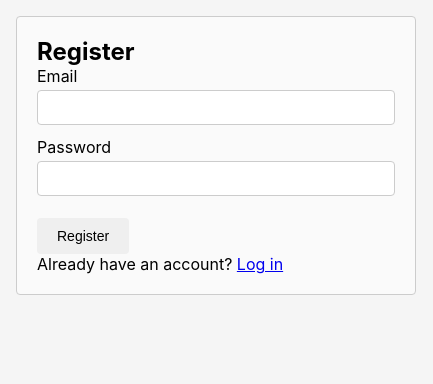
it: Register Component › clears error message when user starts typing after error
This screenshot has width=433, height=384.
# First attempt with error
Step 1. Type "test@example.com" into the field labelled "Email" → (216, 108), box [37,90,395,125]
Step 2. Type "password123" into the password field labelled "Password" → (216, 178), box [37,161,395,196]
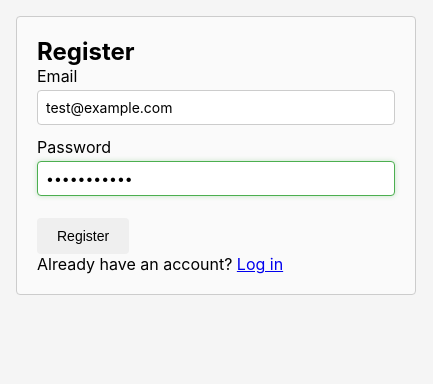
Step 3. Click the button "Register" → (83, 236), box [37,218,129,254]
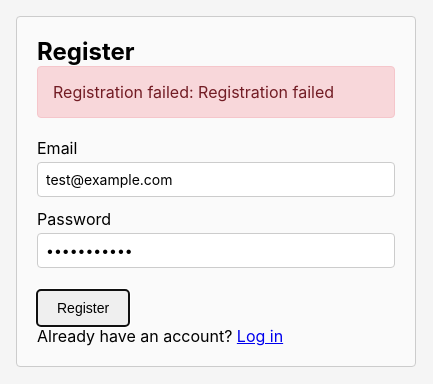
Expected: the text "Registration failed: Registration failed" is shown, [37,66,395,118]
Step 4. Clear the field labelled "Email" → (216, 180), box [37,162,395,197]
Step 5. Clear the password field labelled "Password" → (216, 250), box [37,233,395,268]
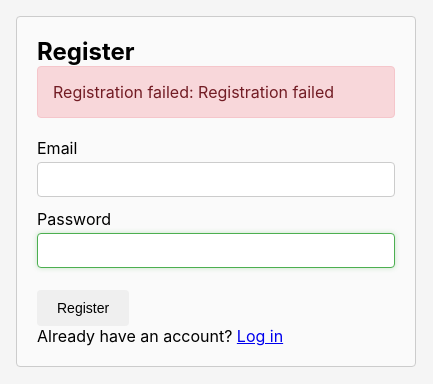
Step 6. Type "newuser@example.com" into the field labelled "Email" → (216, 180), box [37,162,395,197]
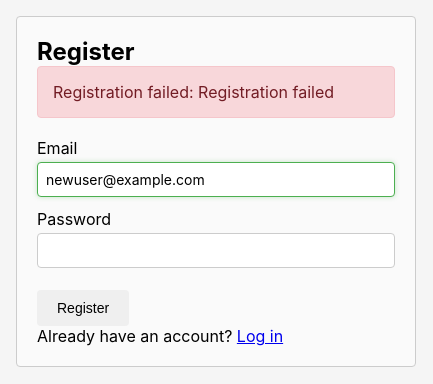
Step 7. Type "newpassword123" into the password field labelled "Password" → (216, 250), box [37,233,395,268]
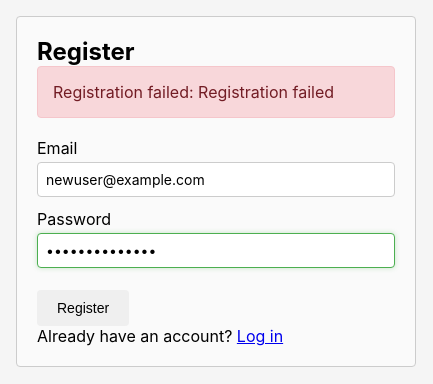
Expected: the text "Registration failed: Registration failed" is shown, [37,66,395,118]
Step 8. Click the button "Register" → (83, 308), box [37,290,129,326]
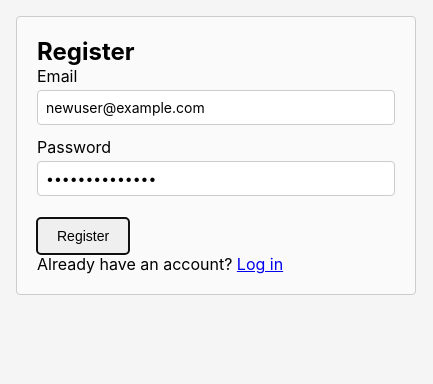
Expected: the text "Registration failed: Registration failed" is gone
